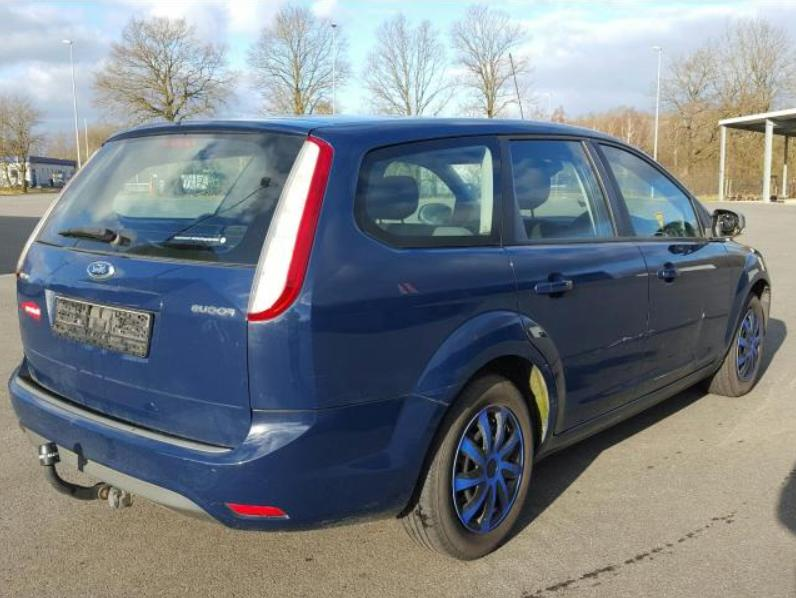Broken part: (712, 208, 748, 244)
Dent: (686, 305, 713, 362), (315, 256, 353, 291)
Missing part: (53, 298, 150, 356)
Paint chip: (392, 277, 426, 297), (698, 310, 710, 322)
Scratch: (591, 330, 645, 353), (650, 356, 696, 381), (416, 393, 452, 407), (678, 317, 693, 331), (530, 326, 544, 337), (544, 363, 550, 369)
